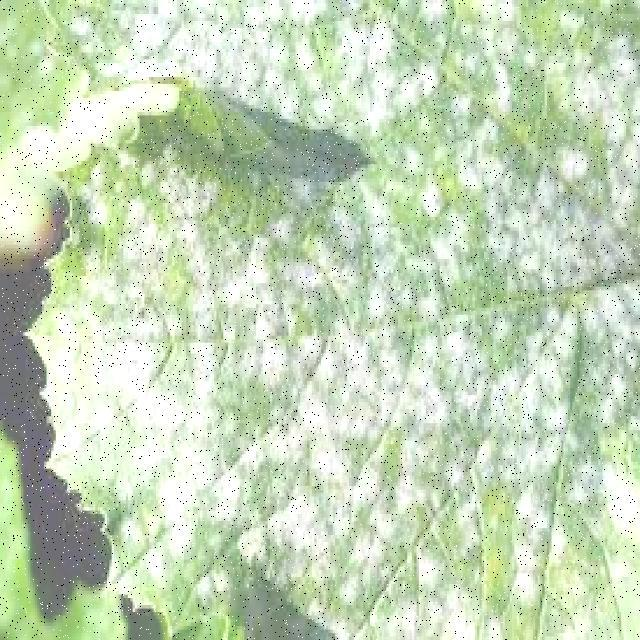Powdery_mildew_on_lettuce: (46, 21, 625, 590)
